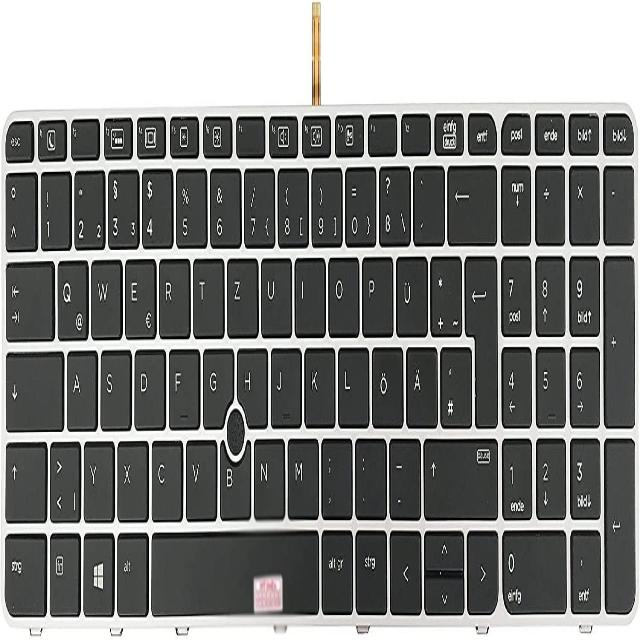0: (343, 163, 375, 245)
1: (39, 166, 70, 248)
2: (72, 166, 104, 247)
3: (106, 165, 138, 247)
4: (141, 164, 172, 246)
5: (173, 163, 206, 246)
6: (208, 163, 240, 245)
7: (242, 164, 274, 245)
8: (275, 163, 307, 245)
9: (309, 162, 341, 244)
a: (65, 346, 96, 429)
accent: (411, 158, 443, 243)
ae: (404, 341, 437, 426)
alt-left: (115, 531, 146, 617)
altgr-right: (320, 526, 352, 613)
b: (218, 433, 251, 518)
c: (149, 435, 181, 520)
caret: (2, 168, 36, 249)
comma: (319, 432, 351, 516)
d: (133, 344, 164, 429)
del: (445, 158, 495, 242)
e: (123, 253, 155, 337)
enter: (462, 251, 496, 426)
f: (167, 345, 198, 427)
g: (201, 344, 232, 427)
h: (234, 343, 266, 424)
hash: (438, 342, 471, 425)
i: (293, 251, 324, 332)
j: (269, 342, 300, 425)
k: (302, 342, 333, 425)
keyboard: (2, 101, 637, 631)
l: (336, 342, 367, 424)
less: (48, 437, 79, 522)
m: (285, 432, 317, 516)
minus: (386, 433, 420, 516)
n: (252, 433, 284, 517)
o: (326, 250, 358, 335)
oe: (369, 342, 402, 427)
p: (360, 250, 392, 333)
plus: (429, 249, 461, 334)
point: (353, 432, 386, 516)
q: (55, 255, 87, 340)
r: (157, 254, 189, 337)
s: (98, 346, 129, 429)
shift-left: (2, 437, 45, 520)
shift-lock: (3, 346, 62, 430)
shift-right: (422, 432, 497, 517)
space: (148, 526, 318, 615)
ss: (377, 161, 409, 244)
strg-left: (2, 529, 45, 616)
strg-right: (354, 526, 386, 613)
t: (191, 252, 223, 335)
tab: (3, 256, 52, 338)
u: (259, 252, 290, 336)
ue: (394, 250, 427, 335)
v: (183, 434, 215, 519)
w: (89, 253, 121, 337)
x: (116, 436, 147, 519)
y: (81, 437, 113, 520)
z: (225, 252, 257, 336)
